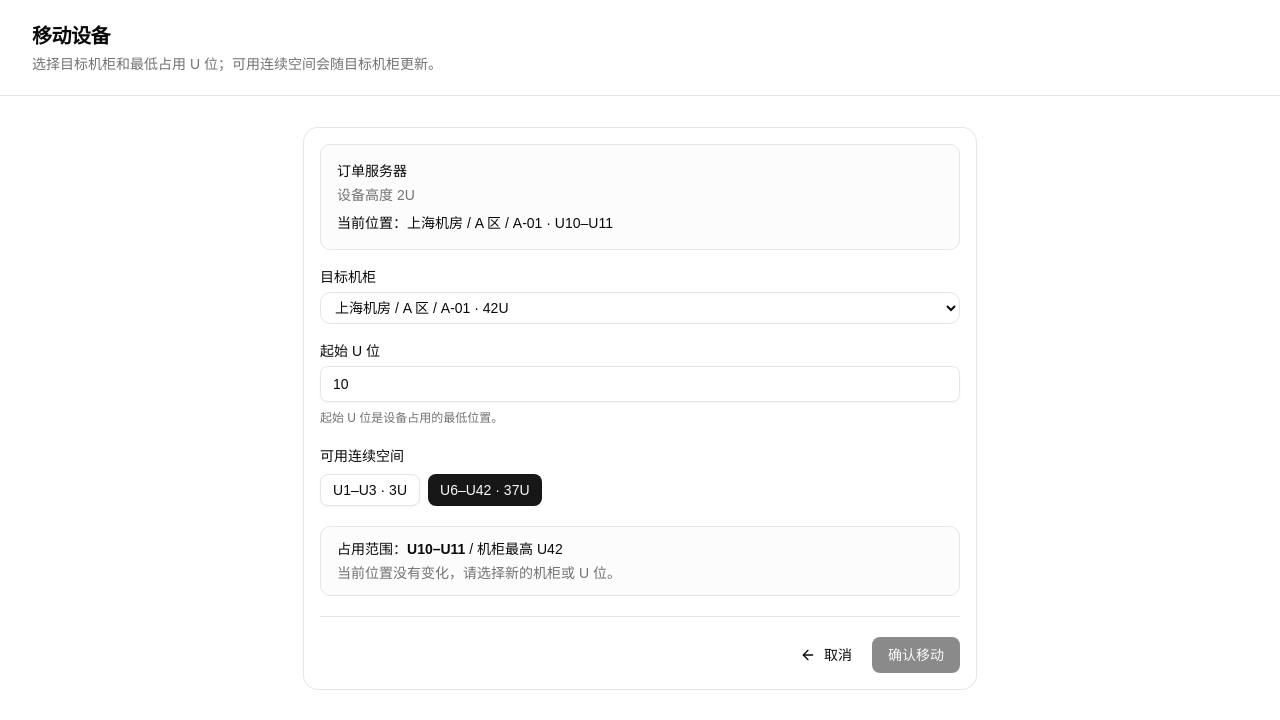
Test: PlacementFormPage › shows the conflicting device and prevents an invalid move
The image size is (1280, 720).
Expected: the heading "移动设备" is shown, [32, 24, 110, 46]
Replace the text in the number field labelled "起始 U 位" with "4" at (640, 384), box [320, 366, 960, 402]
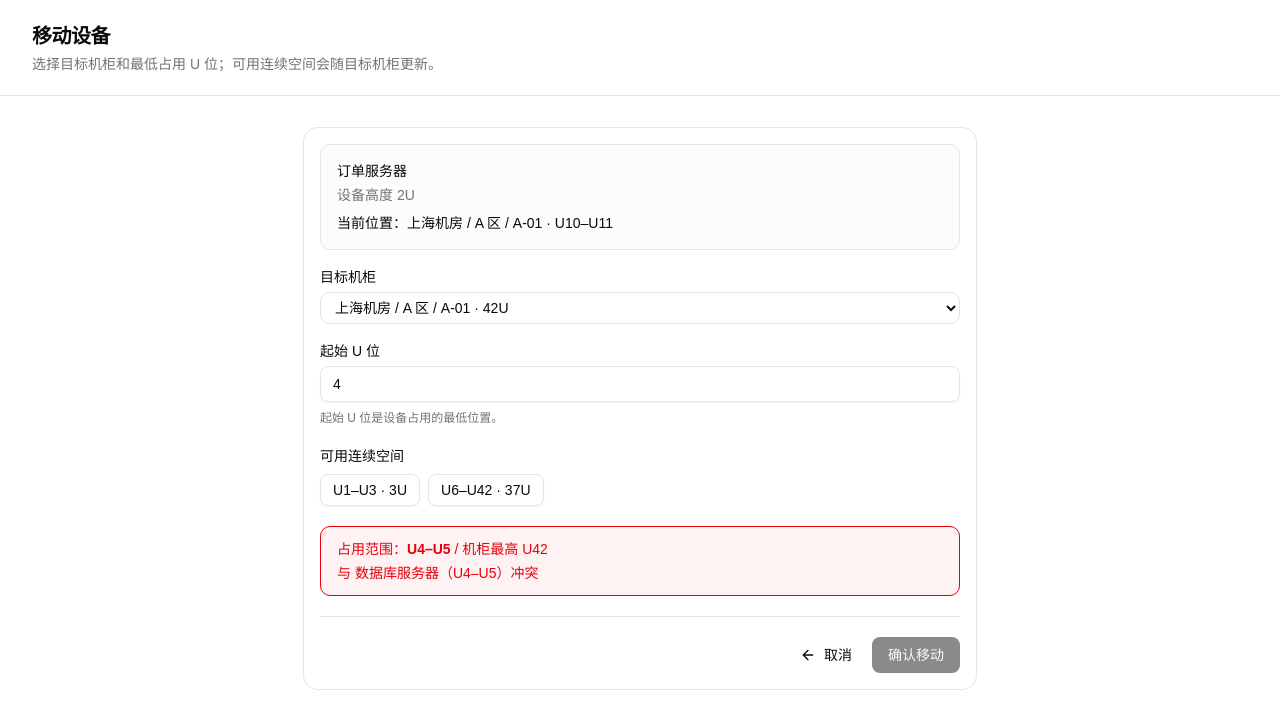
Expected: the button "确认移动" is disabled, [872, 637, 960, 673]
Expected: the text "与 数据库服务器（U4–U5）冲突" is shown, [337, 565, 538, 581]
